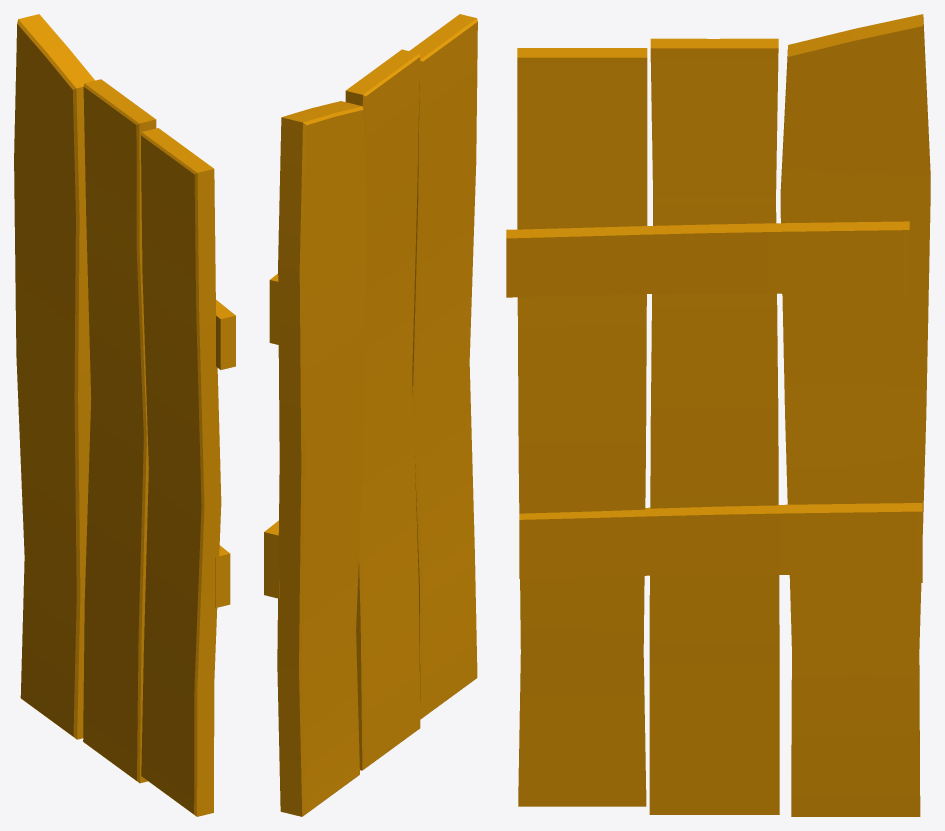
File: shack_door_uv_casie.fbx
The picture shows the model from 3 angles, left to right: view 1: azimuth 30°, elevation 25°; view 2: azimuth 150°, elevation 25°; view 3: azimuth 270°, elevation 25°; orthographic projection. The views are drawn at different scales.
Parts seen in each view (by area): view 1: door_01_shack_uv_casie1; view 2: door_01_shack_uv_casie1; view 3: door_01_shack_uv_casie1.
Part boxes in pixels (x1,y1,x2,y2): door_01_shack_uv_casie1: (14, 14, 235, 816); door_01_shack_uv_casie1: (264, 14, 477, 816); door_01_shack_uv_casie1: (506, 14, 930, 816).
Bounding box in the file's own units: 0.3728 × 5.66 × 2.76.
